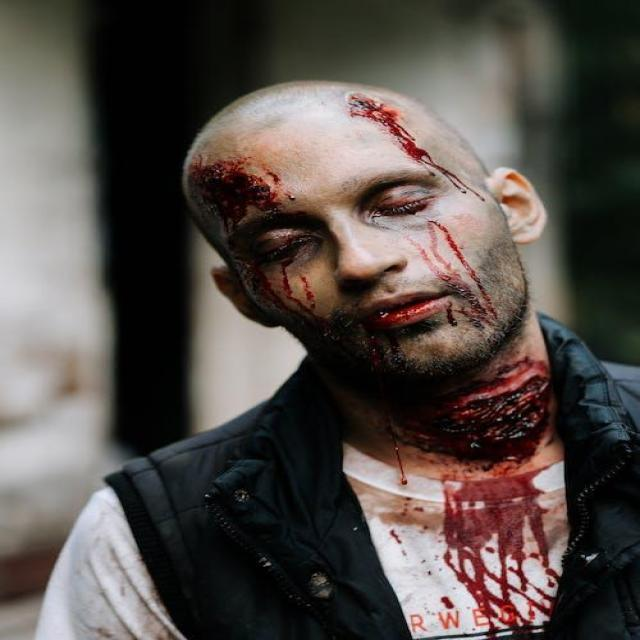flood: (206, 88, 509, 362), (378, 374, 589, 618)
